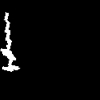double_crochet: (1, 13, 19, 71)
